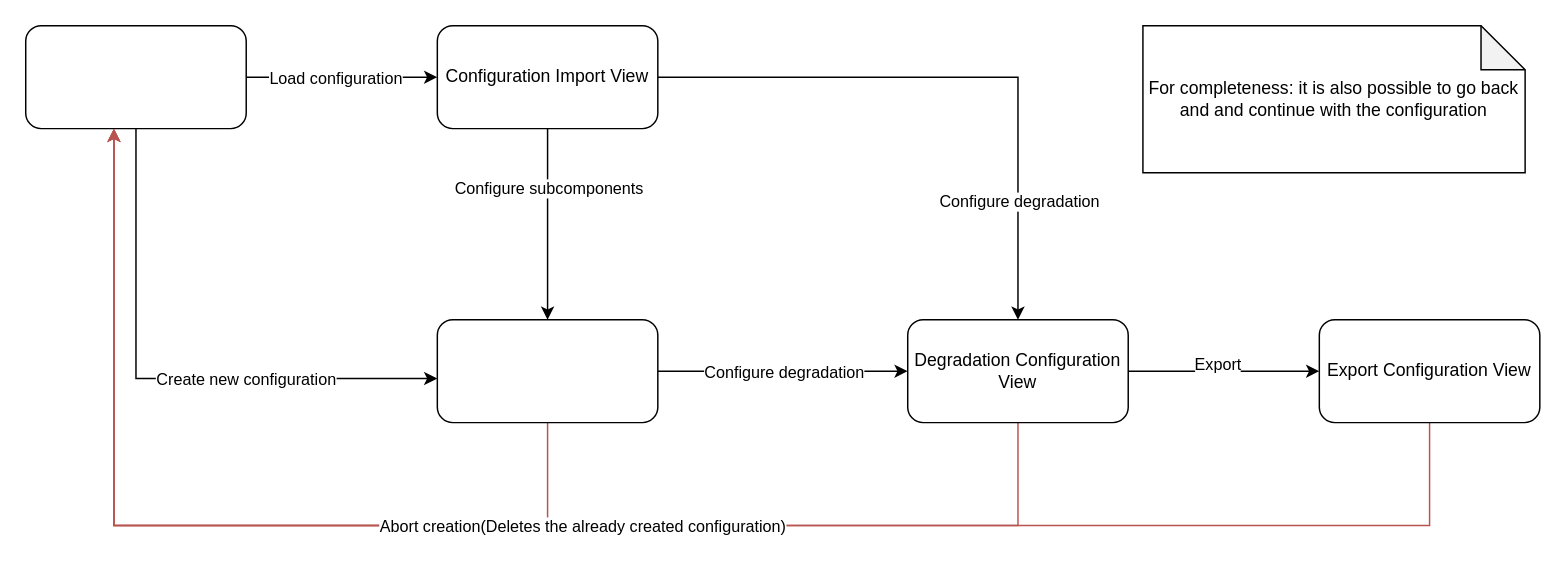
This 1566x563 diagram has some shape labels left out. Here are the shapes that lost their labels. From the top down, the box of each, then its label:
(24, 24, 246, 129): Welcome View
(436, 318, 658, 423): Subcomponent Configuration View
